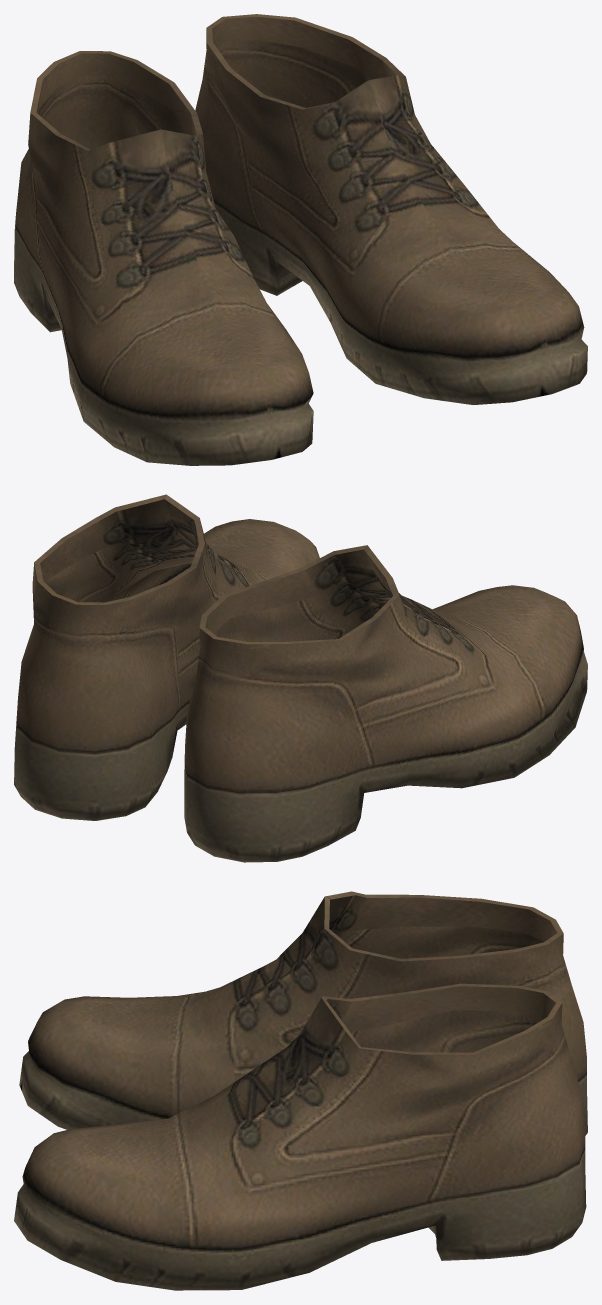
Rendered from Shoes 8.FBX.
3 renders of one model, top to bottom at view 1: azimuth 30°, elevation 25°; view 2: azimuth 150°, elevation 25°; view 3: azimuth 270°, elevation 25°, orthographic. The views are drawn at different scales.
Visible parts, largest first — view 1: left shoe, right shoe; view 2: right shoe, left shoe; view 3: left shoe, right shoe.
Boxes of the visible parts, bbox=[...] form: left shoe: bbox=[195, 14, 587, 404]; right shoe: bbox=[14, 51, 313, 465]; right shoe: bbox=[184, 545, 587, 862]; left shoe: bbox=[14, 494, 319, 820]; left shoe: bbox=[14, 983, 586, 1290]; right shoe: bbox=[19, 891, 587, 1135].
Bounding box in the file's own units: 28.18 × 31.64 × 14.68.
1 material, 1 textured.
